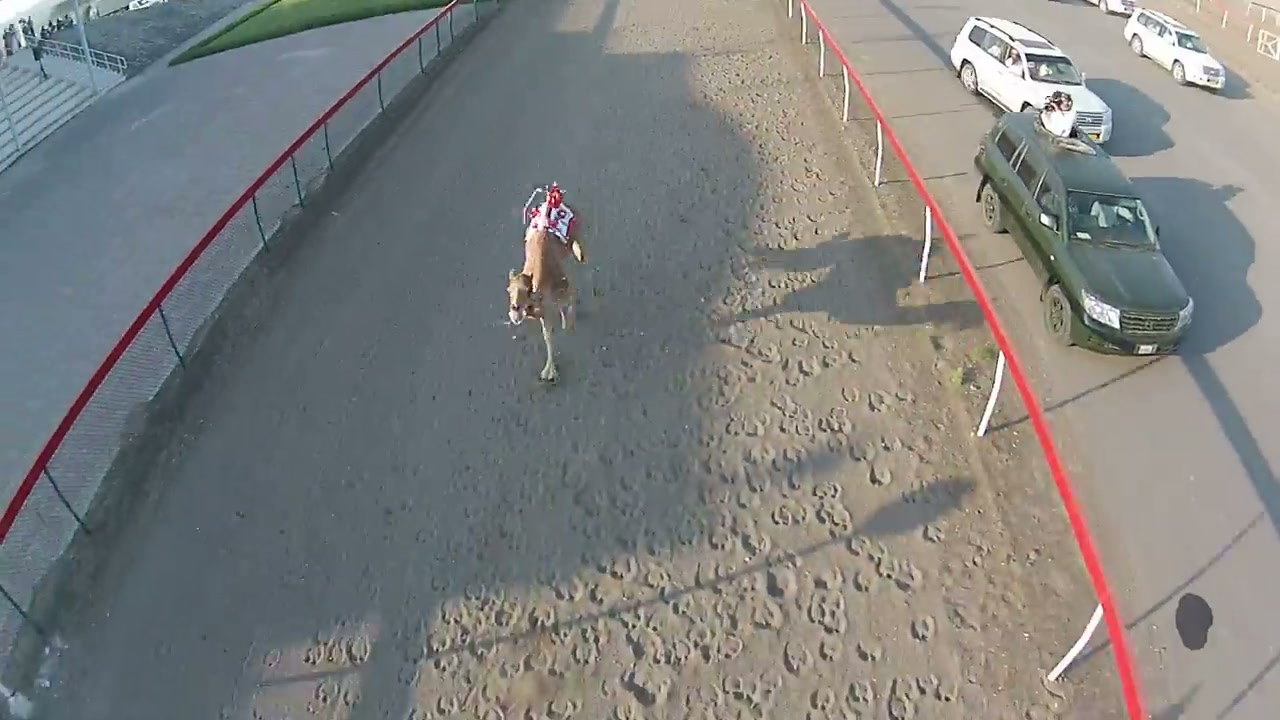animal_footprint: (426, 92, 942, 719)
